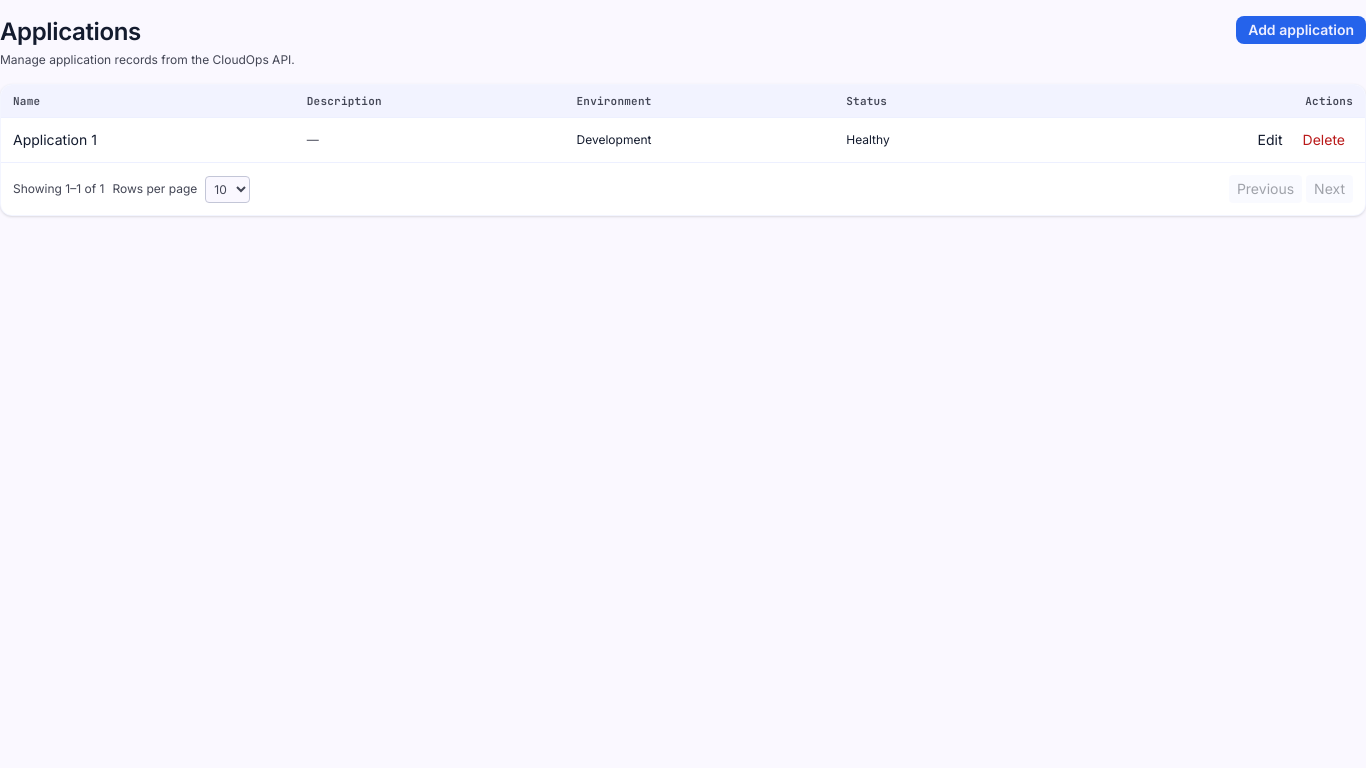
Test: ApplicationsPage › does not PATCH an unchanged application with a null description
The width and height of the screenshot is (1366, 768).
Check: the row "Application 1 — development healthy Edit Delete" is shown, box [1,118,1365,162]
Click the button with aria-label "Edit Application 1".
click(1270, 140)  # box [1250,126,1291,154]
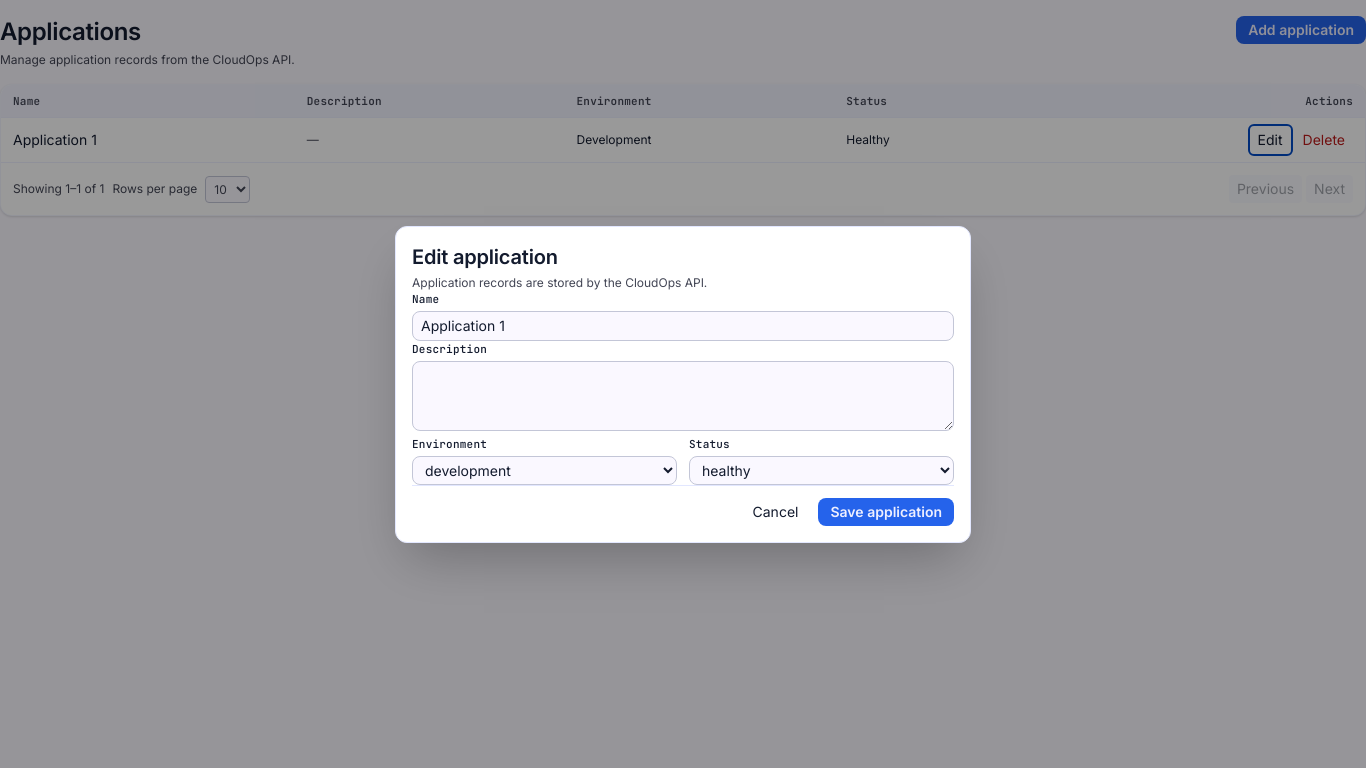
Click the button "Save application".
click(886, 512)  # box [818,498,954,526]
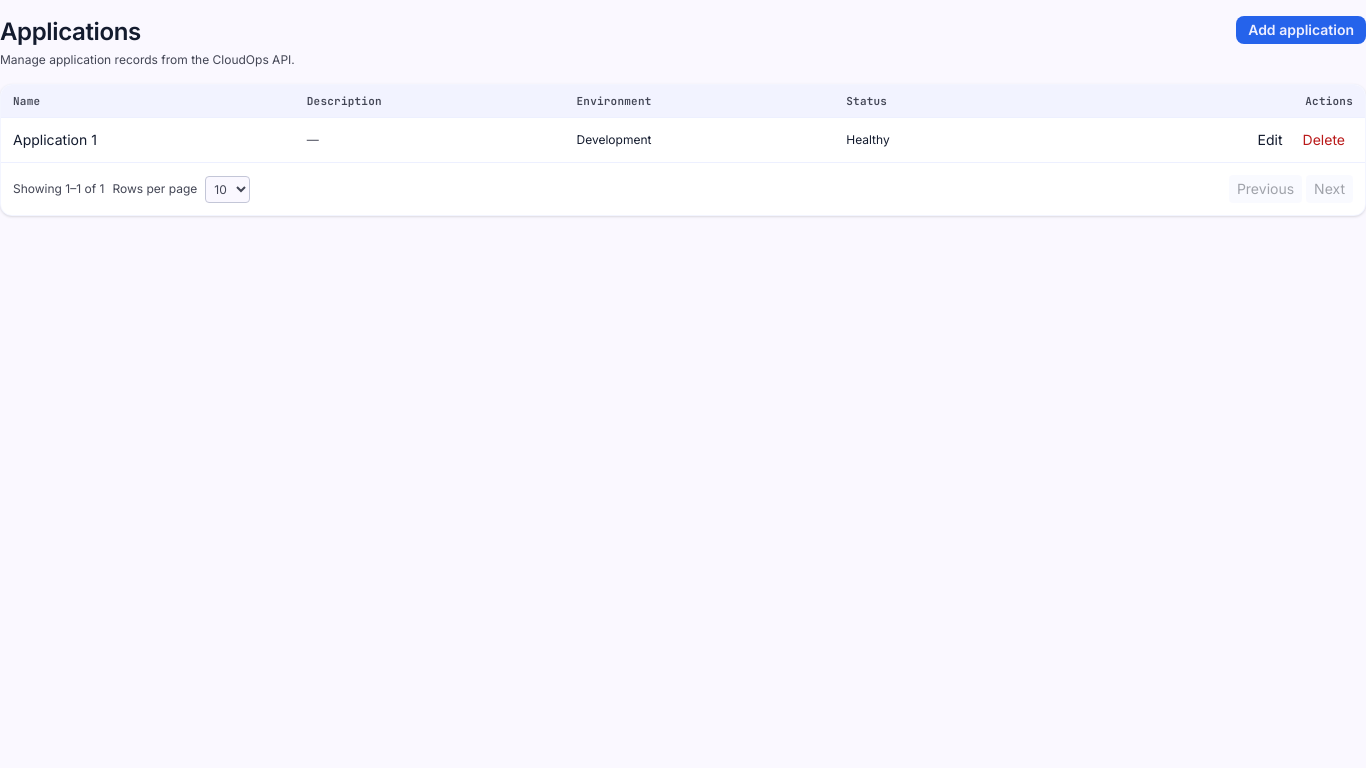
Check: the dialog is gone
